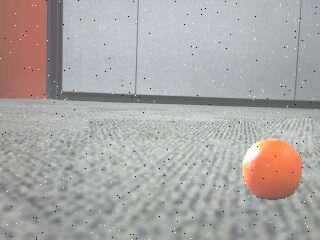Orange: (243, 139, 304, 202)
